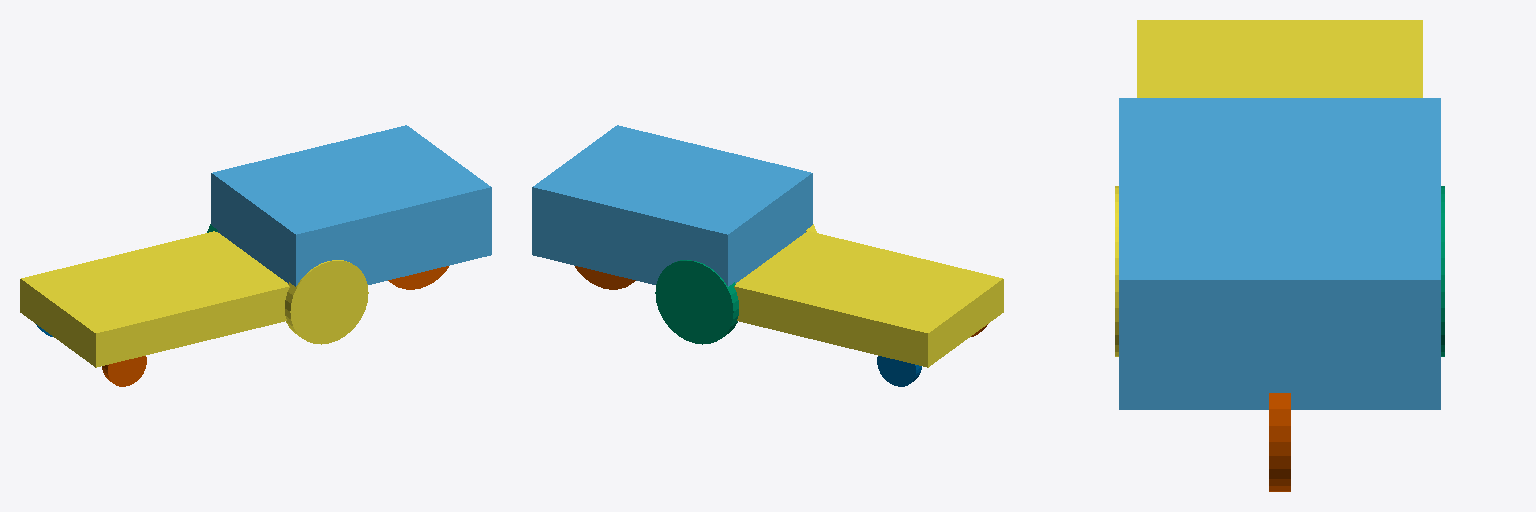
The robot description file, URDF, robot "fx_robot":
<?xml version="1.0"?>
<!--
  Trailer sim variant. Same tractor chain, sensor_joint mounted differently,
  imu_link reparented from base_link to sensor_link with an identity origin,
  plus a ray frame and a trailer subtree. The gazebo lidar stamps sensor_ray
  here, not sensor_link.
-->
<robot name="fx_robot">

  <link name="base_footprint"/>

  <joint name="base_joint" type="fixed">
    <parent link="base_footprint"/>
    <child link="base_link"/>
    <origin xyz="0 0 0.12" rpy="0 0 0"/>
  </joint>

  <link name="base_link">
    <visual>
      <origin xyz="0.25 0 0.1" rpy="0 0 0"/>
      <geometry><box size="0.6 0.45 0.2"/></geometry>
    </visual>
    <inertial>
      <mass value="35.0"/>
      <origin xyz="0.25 0 0.1" rpy="0 0 0"/>
      <inertia ixx="0.8" ixy="0" ixz="0" iyy="1.2" iyz="0" izz="1.5"/>
    </inertial>
  </link>

  <joint name="drive_left_joint" type="continuous">
    <parent link="base_link"/>
    <child link="drive_left_wheel"/>
    <origin xyz="0.05 0.21 -0.02" rpy="0 0 0"/>
    <axis xyz="0 1 0"/>
    <limit effort="60" velocity="2.5"/>
  </joint>

  <link name="drive_left_wheel">
    <visual>
      <origin xyz="0 0 0" rpy="1.5708 0 0"/>
      <geometry><cylinder radius="0.12" length="0.04"/></geometry>
    </visual>
  </link>

  <joint name="drive_right_joint" type="continuous">
    <parent link="base_link"/>
    <child link="drive_right_wheel"/>
    <origin xyz="0.05 -0.21 -0.02" rpy="0 0 0"/>
    <axis xyz="0 1 0"/>
    <limit effort="60" velocity="2.5"/>
  </joint>

  <link name="drive_right_wheel">
    <visual>
      <origin xyz="0 0 0" rpy="1.5708 0 0"/>
      <geometry><cylinder radius="0.12" length="0.04"/></geometry>
    </visual>
  </link>

  <joint name="caster_swivel_joint" type="revolute">
    <parent link="base_link"/>
    <child link="caster_swivel_link"/>
    <origin xyz="0.45 0 0" rpy="0 0 0"/>
    <axis xyz="0 0 1"/>
    <limit lower="-0.785" upper="0.785" effort="60" velocity="2.5"/>
  </joint>

  <link name="caster_swivel_link"/>

  <joint name="caster_wheel_joint" type="continuous">
    <parent link="caster_swivel_link"/>
    <child link="caster_wheel"/>
    <origin xyz="0 0 -0.04" rpy="0 0 0"/>
    <axis xyz="0 1 0"/>
    <limit effort="60" velocity="2.5"/>
  </joint>

  <link name="caster_wheel">
    <visual>
      <origin xyz="0 0 0" rpy="1.5708 0 0"/>
      <geometry><cylinder radius="0.12" length="0.03"/></geometry>
    </visual>
  </link>

  <joint name="steer_indicator_joint" type="revolute">
    <parent link="caster_swivel_link"/>
    <child link="steer_indicator"/>
    <origin xyz="0 0 0.1" rpy="0 0 0"/>
    <axis xyz="0 0 1"/>
    <limit lower="-0.785" upper="0.785" effort="1" velocity="1"/>
    <mimic joint="caster_swivel_joint" multiplier="0.5" offset="0.02"/>
  </joint>

  <link name="steer_indicator"/>

  <joint name="sensor_joint" type="fixed">
    <parent link="base_link"/>
    <child link="sensor_link"/>
    <origin xyz="0.38 0 0.31" rpy="1.57 0 1.57"/>
  </joint>

  <link name="sensor_link"/>

  <joint name="lidar_joint" type="fixed">
    <parent link="sensor_link"/>
    <child link="lidar_link"/>
    <origin xyz="0 0 0" rpy="0 0 0"/>
  </joint>

  <link name="lidar_link"/>

  <joint name="sensor_ray_joint" type="fixed">
    <parent link="sensor_link"/>
    <child link="sensor_ray"/>
    <origin xyz="0 0 0.02" rpy="0 0 0"/>
  </joint>

  <link name="sensor_ray"/>

  <!-- imu_link hangs off sensor_link here, not base_link, and is coincident. -->
  <joint name="imu_joint" type="fixed">
    <parent link="sensor_link"/>
    <child link="imu_link"/>
    <origin xyz="0 0 0" rpy="0 0 0"/>
  </joint>

  <link name="imu_link"/>

  <joint name="trailer_tow_joint" type="revolute">
    <parent link="base_link"/>
    <child link="trailer_link"/>
    <origin xyz="0.05 0 -0.06" rpy="0 0 0"/>
    <axis xyz="0 0 1"/>
    <limit lower="-1.5708" upper="1.5708" effort="100" velocity="1.0"/>
  </joint>

  <link name="trailer_link">
    <visual>
      <origin xyz="-0.4 0 0.05" rpy="0 0 0"/>
      <geometry><box size="0.6 0.4 0.1"/></geometry>
    </visual>
  </link>

  <joint name="trailer_left_joint" type="continuous">
    <parent link="trailer_link"/>
    <child link="trailer_left_wheel"/>
    <origin xyz="-0.6 0.18 -0.02" rpy="0 0 0"/>
    <axis xyz="0 1 0"/>
  </joint>

  <link name="trailer_left_wheel">
    <visual>
      <origin xyz="0 0 0" rpy="1.5708 0 0"/>
      <geometry><cylinder radius="0.06" length="0.03"/></geometry>
    </visual>
  </link>

  <joint name="trailer_right_joint" type="continuous">
    <parent link="trailer_link"/>
    <child link="trailer_right_wheel"/>
    <origin xyz="-0.6 -0.18 -0.02" rpy="0 0 0"/>
    <axis xyz="0 1 0"/>
  </joint>

  <link name="trailer_right_wheel">
    <visual>
      <origin xyz="0 0 0" rpy="1.5708 0 0"/>
      <geometry><cylinder radius="0.06" length="0.03"/></geometry>
    </visual>
  </link>

  <gazebo>
    <plugin name="fx_tricycle_drive" filename="libfx_tricycle_drive.so">
      <ros>
        <namespace>/fx</namespace>
        <remapping>cmd_vel:=/fx/cmd_vel_sim</remapping>
        <remapping>odom:=/fx/odom_trailer</remapping>
      </ros>
      <update_rate>50</update_rate>
      <steering_joint>caster_swivel_joint</steering_joint>
      <actuated_wheel_joint>caster_wheel_joint</actuated_wheel_joint>
      <wheel_separation>0.42</wheel_separation>
    </plugin>
  </gazebo>

  <gazebo reference="sensor_link">
    <sensor name="fx_lidar" type="ray">
      <update_rate>10</update_rate>
      <plugin name="fx_lidar_plugin" filename="libgazebo_ros_ray_sensor.so">
        <ros>
          <namespace>/fx</namespace>
          <remapping>~/out:=/fx/points</remapping>
        </ros>
        <output_type>sensor_msgs/PointCloud2</output_type>
        <frame_name>sensor_ray</frame_name>
      </plugin>
    </sensor>
  </gazebo>

</robot>

--- Facts derived from the render (not from the file) ---
3 views of the same robot in one strip: view 1: azimuth 30°, elevation 25°; view 2: azimuth 150°, elevation 25°; view 3: azimuth 270°, elevation 25° (orthographic).
Robot: fx_robot — 14 links, 13 joints (3 revolute, 5 continuous, 5 fixed); root link base_footprint; default pose: every joint at zero.
Links seen in each view (by area): view 1: base_link, trailer_link, drive_right_wheel, trailer_right_wheel, caster_wheel; view 2: base_link, trailer_link, drive_left_wheel, trailer_left_wheel, caster_wheel; view 3: base_link, trailer_link, caster_wheel, drive_left_wheel, drive_right_wheel.
Boxes of the visible links, x1,y1,x2,y2 form: base_link: [211, 125, 491, 286]; trailer_link: [20, 231, 289, 367]; drive_right_wheel: [285, 260, 368, 344]; trailer_right_wheel: [102, 356, 146, 386]; caster_wheel: [388, 266, 448, 289]; base_link: [532, 125, 812, 286]; trailer_link: [734, 231, 1003, 367]; drive_left_wheel: [655, 260, 738, 344]; trailer_left_wheel: [877, 356, 921, 386]; caster_wheel: [575, 266, 635, 289]; base_link: [1119, 98, 1440, 409]; trailer_link: [1137, 20, 1422, 97]; caster_wheel: [1269, 393, 1290, 491]; drive_left_wheel: [1441, 186, 1444, 356]; drive_right_wheel: [1115, 186, 1118, 356].
Bounding box of the posed robot: 1.22 × 0.46 × 0.36 m (x, y, z).
Geometry: primitives only (box / cylinder / sphere), no mesh files.
